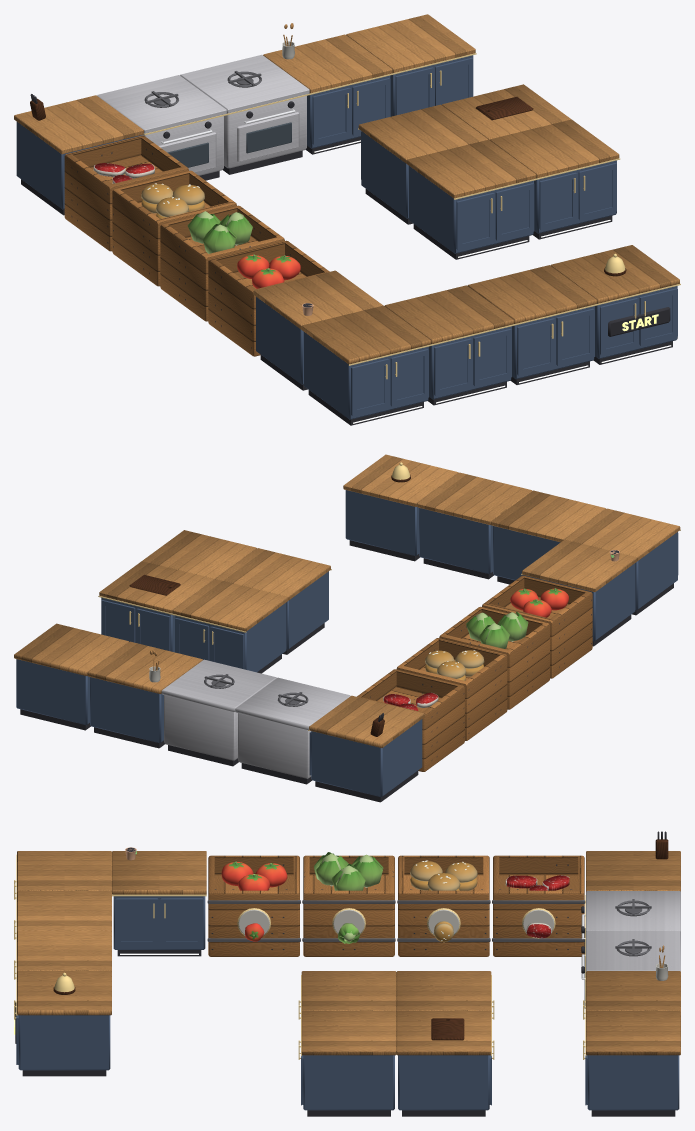
The model's file is kr_layD_st.glb.
The picture shows the model from 3 angles, top to bottom: view 1: azimuth 30°, elevation 25°; view 2: azimuth 150°, elevation 25°; view 3: azimuth 270°, elevation 25°; orthographic projection. The views are drawn at different scales.
Visible parts, largest first — view 1: vc_m0_r4, kr_layD_st_butcher, kr_layD_st_planks, kr_layD_st_steel, vc_m8_r2, vc_m0_r2, kr_layD_st_darkwood, vc_m8_r4, kr_layD_st_warmglow; view 2: vc_m0_r4, kr_layD_st_butcher, kr_layD_st_planks, kr_layD_st_steel, vc_m0_r2, kr_layD_st_darkwood, vc_m8_r4, vc_m8_r2; view 3: kr_layD_st_butcher, vc_m0_r4, kr_layD_st_planks, kr_layD_st_steel, vc_m8_r4, vc_m8_r2, vc_m0_r2, kr_layD_st_darkwood, kr_layD_st_f_marble.
Part boxes in pixels (x1,y1,x2,y2): vc_m0_r4: (16,41,677,425); kr_layD_st_butcher: (14,14,679,364); kr_layD_st_planks: (64,135,329,356); kr_layD_st_steel: (97,54,309,175); vc_m8_r2: (143,53,680,379); vc_m0_r2: (237,254,300,288); kr_layD_st_darkwood: (30,96,626,276); vc_m8_r4: (144,71,313,315); kr_layD_st_warmglow: (314,140,671,423); vc_m0_r4: (16,490,678,802); kr_layD_st_butcher: (14,454,680,747); kr_layD_st_planks: (357,575,592,771); kr_layD_st_steel: (161,659,350,778); vc_m0_r2: (510,588,568,617); kr_layD_st_darkwood: (129,475,410,736); vc_m8_r4: (204,550,619,706); vc_m8_r2: (98,462,680,730); kr_layD_st_butcher: (17,851,680,1055); vc_m0_r4: (15,831,679,1116); kr_layD_st_planks: (208,855,584,956); kr_layD_st_steel: (586,891,680,971); vc_m8_r4: (125,847,651,956); vc_m8_r2: (14,854,586,1059); vc_m0_r2: (221,862,287,941); kr_layD_st_darkwood: (53,839,668,1040); kr_layD_st_f_marble: (506,875,569,938).
Bounding box in the file's own units: 6 × 1.4 × 8.44.
Materials: 12 (5 with a texture image).
